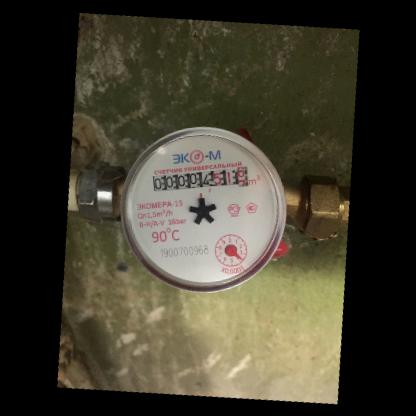digital_screen: (149, 169, 213, 194)
